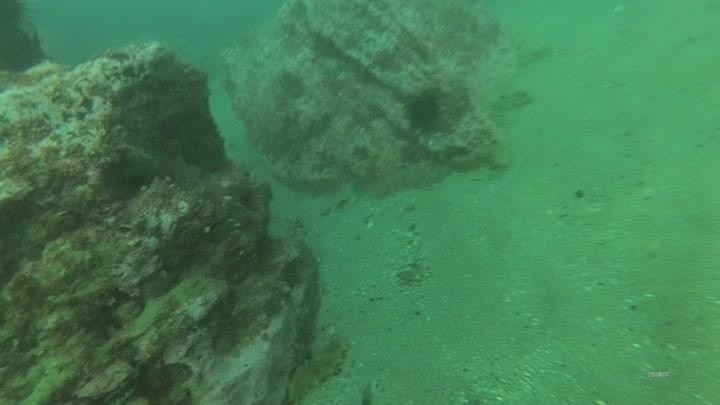echinus: (402, 87, 445, 132)
holothurian: (284, 329, 353, 404), (371, 160, 454, 199)
